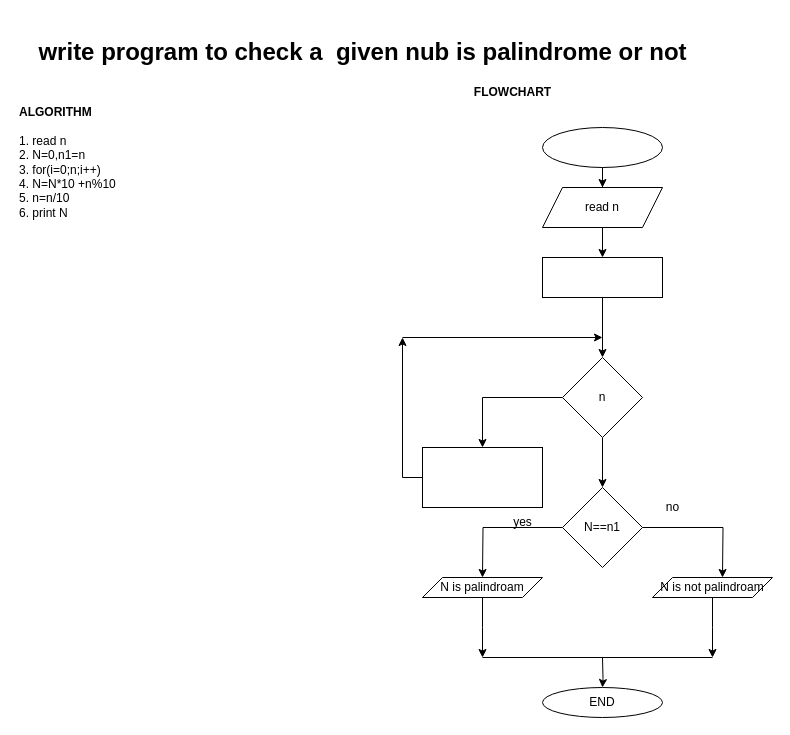
Some shapes in this 790 by 735 pixel diagram are drawn without their labels. Each missing label, with the box of its shape:
N=0 i=o n1=n: (542, 256, 662, 298)
N=N*10 +n%10 n=n/10: (422, 446, 542, 508)
START: (542, 126, 662, 168)
